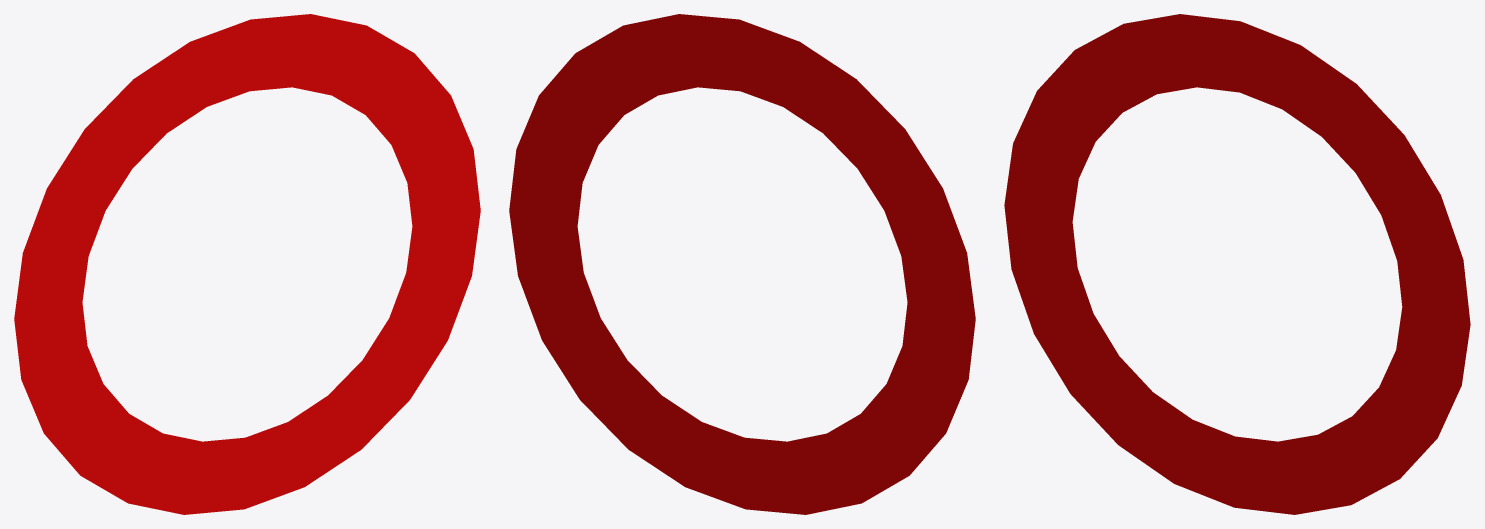
The model's file is original-182.obj.
3 views of the same model, side by side, from view 1: azimuth 30°, elevation 25°; view 2: azimuth 150°, elevation 25°; view 3: azimuth 330°, elevation 25° (orthographic).
Visible parts, largest first — view 1: #ID253; view 2: #ID253; view 3: #ID253.
Boxes of the visible parts, box(x1,y1,x2,y2) form: #ID253: box(14, 14, 480, 514); #ID253: box(509, 14, 975, 514); #ID253: box(1004, 14, 1470, 514).
Size of the model in its own units: 0.0109 by 0.0109 by 0.
